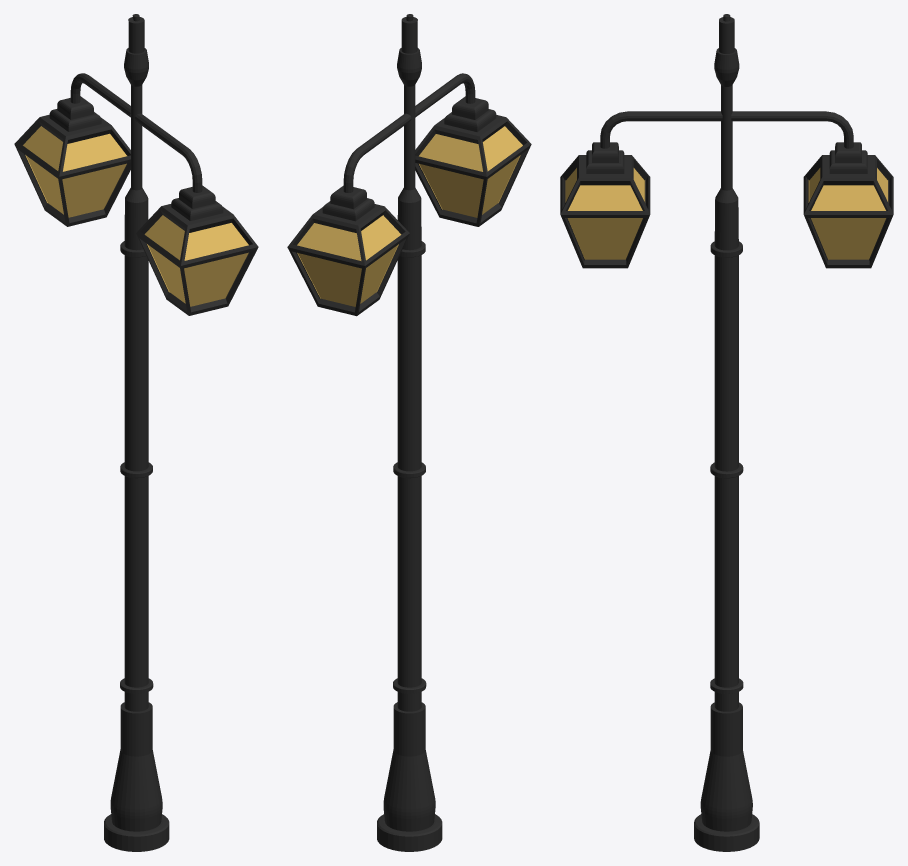
The model's file is P_LAMPU TAMAN HITAM.fbx.
The picture shows the model from 3 angles, left to right: view 1: azimuth 30°, elevation 25°; view 2: azimuth 150°, elevation 25°; view 3: azimuth 270°, elevation 25°; orthographic projection.
Parts seen in each view (by area): view 1: Lampu taman 2; view 2: Lampu taman 2; view 3: Lampu taman 2.
Part boxes in pixels (x1=…): Lampu taman 2: x1=14, y1=14, x2=258, y2=851; Lampu taman 2: x1=287, y1=14, x2=531, y2=851; Lampu taman 2: x1=560, y1=14, x2=893, y2=851.
Bounding box in the file's own units: 410 × 111 × 1117.
